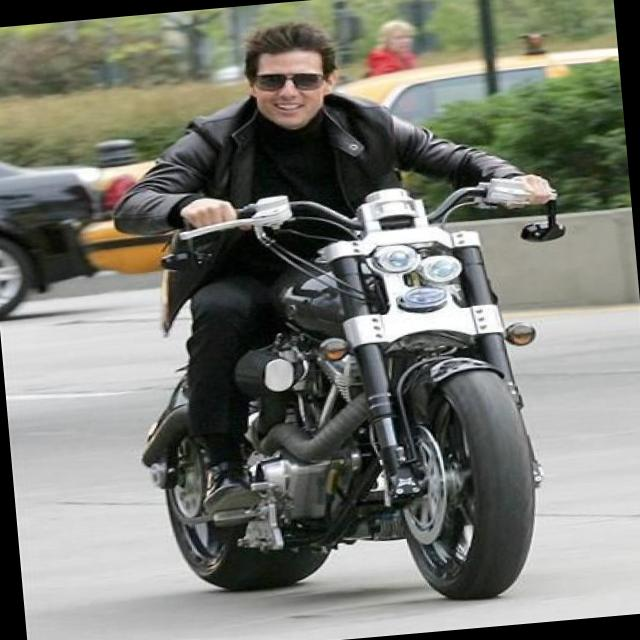No helmet: (244, 8, 344, 132)
